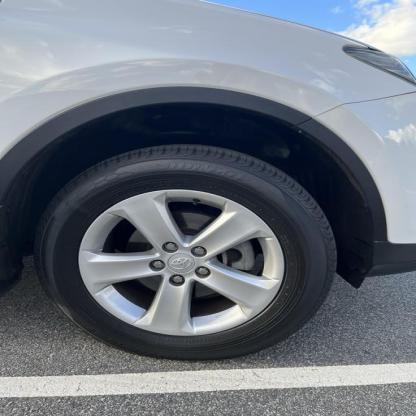Tire: (43, 144, 338, 360)
